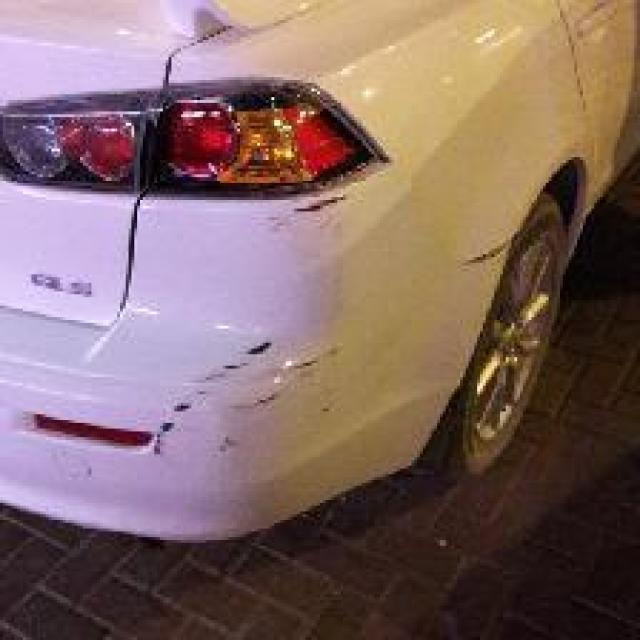damaged: (151, 340, 343, 463), (263, 186, 520, 274)
